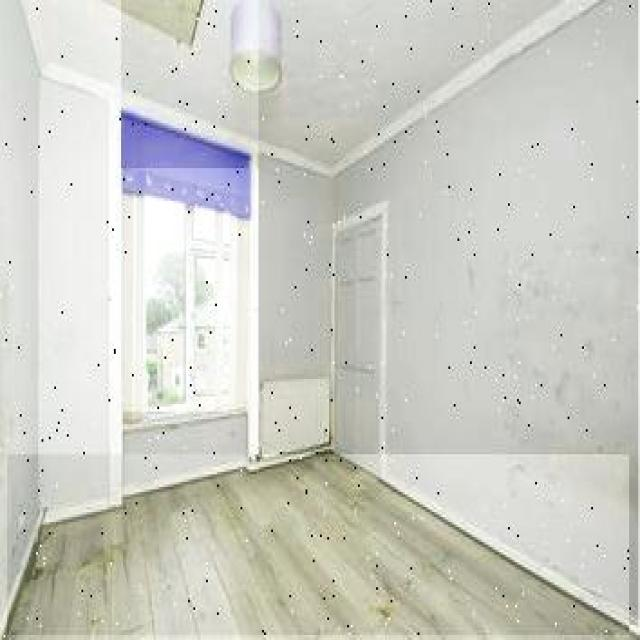Wall: (260, 1, 638, 625), (8, 456, 626, 635), (22, 1, 564, 168), (0, 0, 121, 632), (124, 413, 248, 494)
